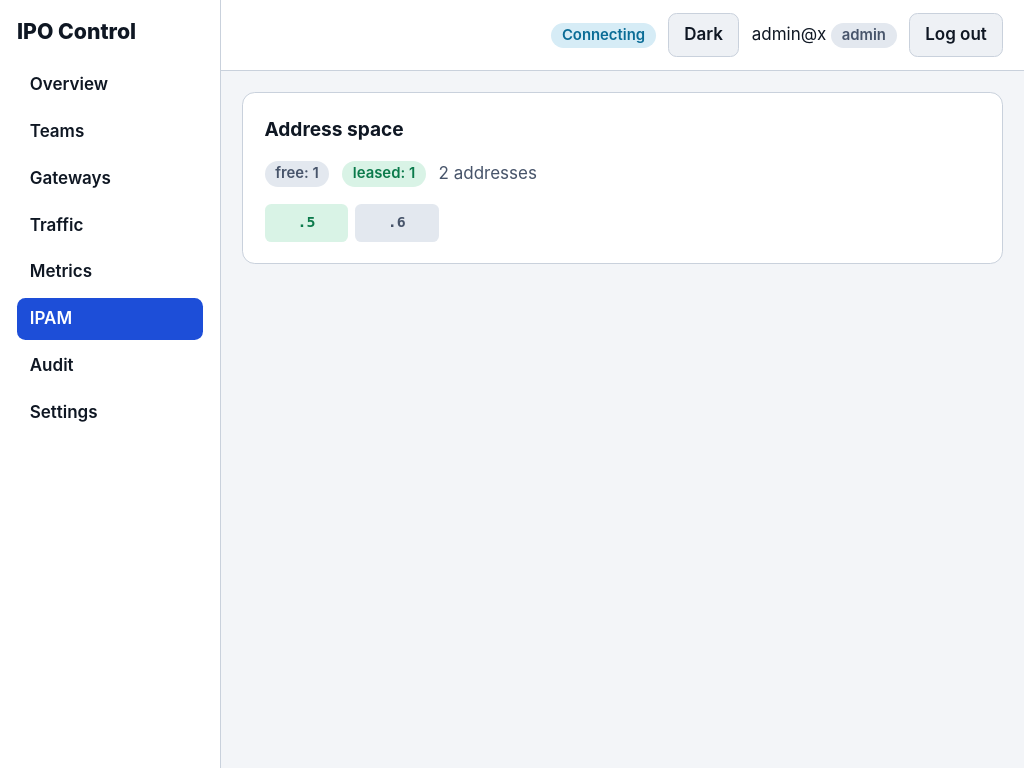
Test: clicking an address opens its detail, with admin-only history
Click the list item named "10.0.0.5 leased". click: click(306, 223)
box: top-left (264, 204), bottom-right (348, 242)
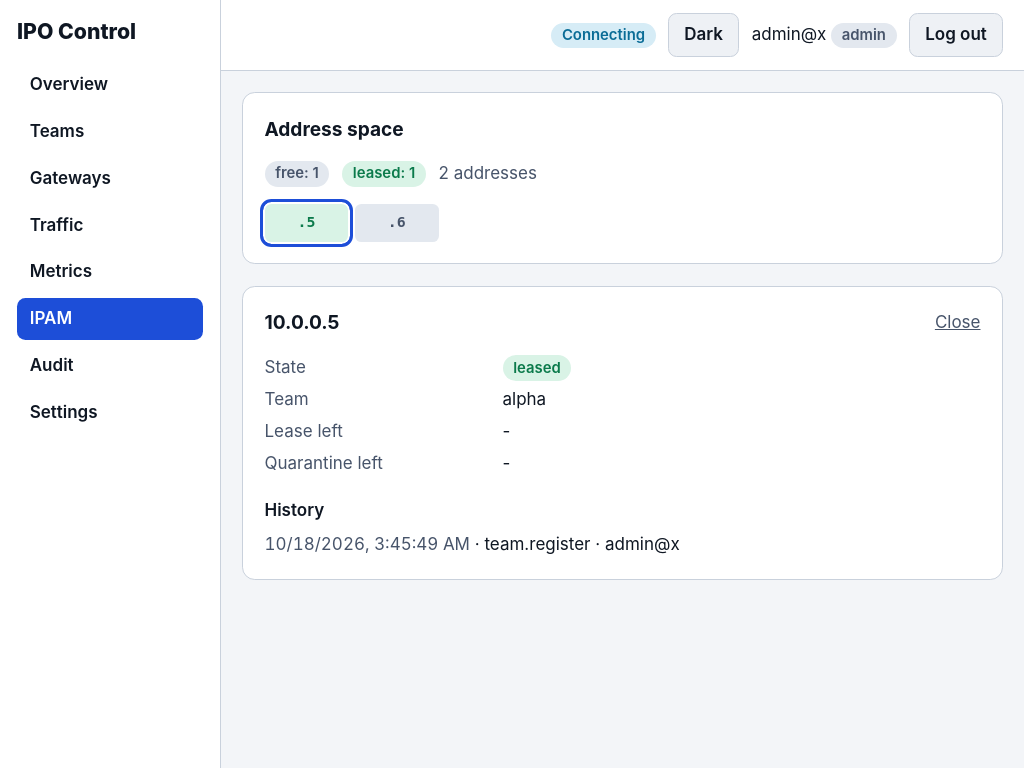
Now the heading "10.0.0.5" is shown, box top-left (264, 308), bottom-right (340, 338)
Now the list item "10/18/2026, 3:45:49 AM · team.register · admin@x" is shown, box top-left (264, 534), bottom-right (680, 554)
